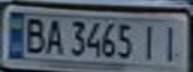3: (66, 18, 87, 56)
4: (84, 18, 103, 57)
5: (115, 20, 139, 60)
6: (100, 19, 121, 58)
A: (42, 16, 66, 55)
B: (21, 15, 48, 54)
I: (157, 19, 187, 62), (136, 20, 163, 61)
